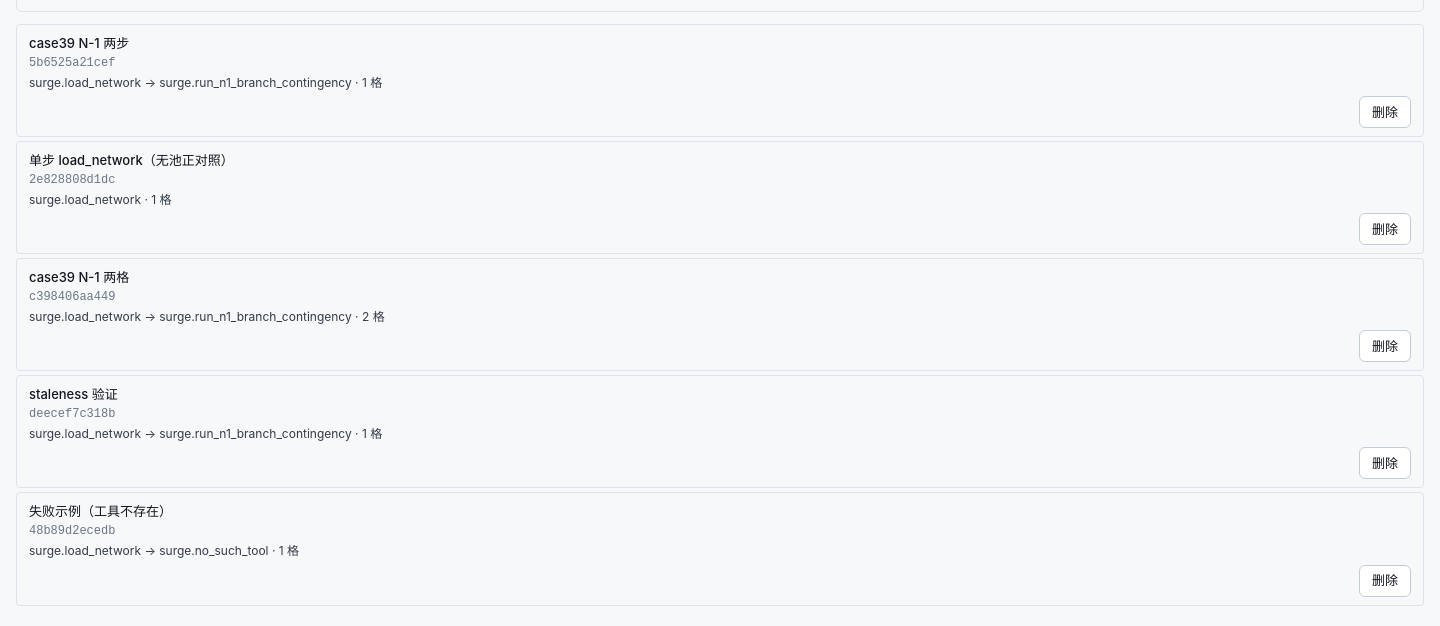
it: ExperimentsView › ★ 执行失败时失败格逐格可见（用真实的失败夹具）
This screenshot has width=1440, height=626.
(page scrolled)
Click the text "失败示例（工具不存在）": [100, 512] box [29,504,172,520]
(page scrolled)
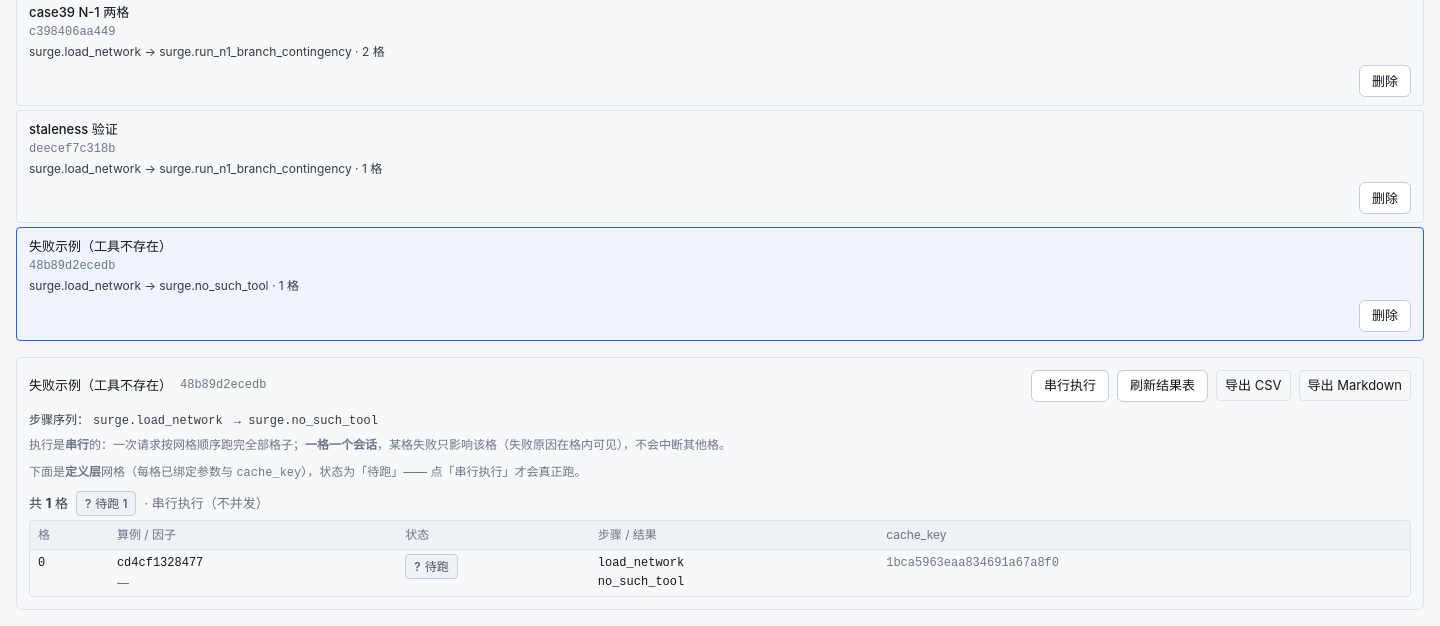
Result: the element with test id "experiment-grid" is shown at [29,491,1411,597]
Click the button "串行执行": [1070, 386] box [1031,370,1109,402]
(page scrolled)
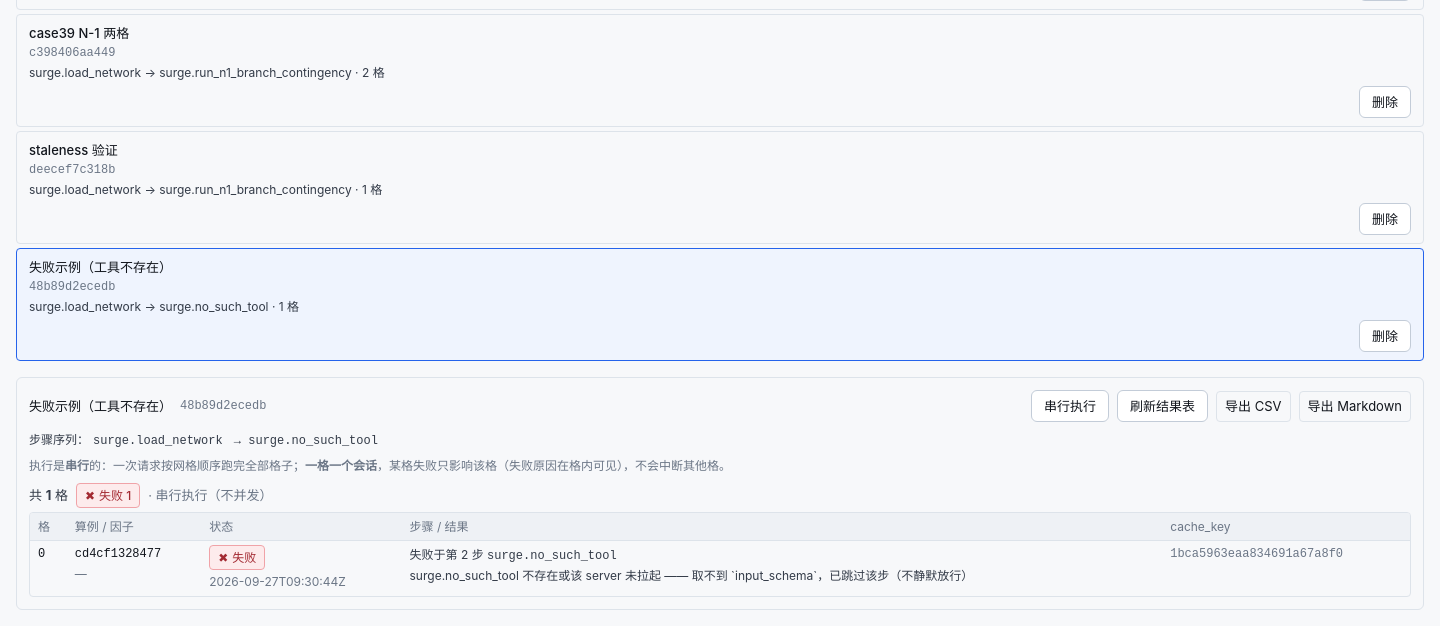
Result: the text "失败于第 2 步 surge.no_such_tool" is shown at [410,547,617,563]
Result: the text "no_such_tool 不存在或该 server 未拉起" is shown at [410,568,973,583]
